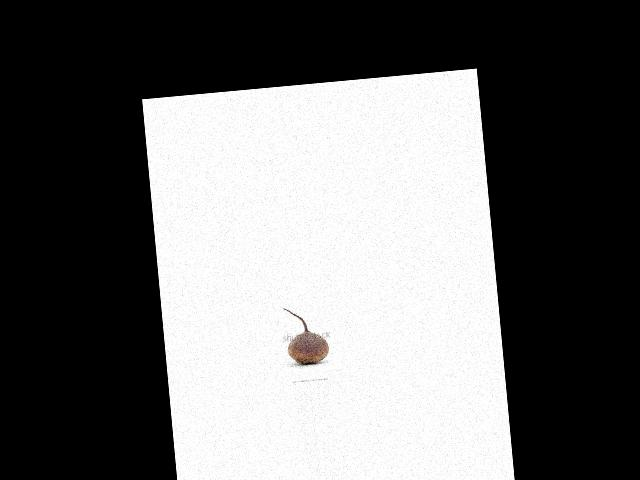beet: (283, 304, 331, 366)
